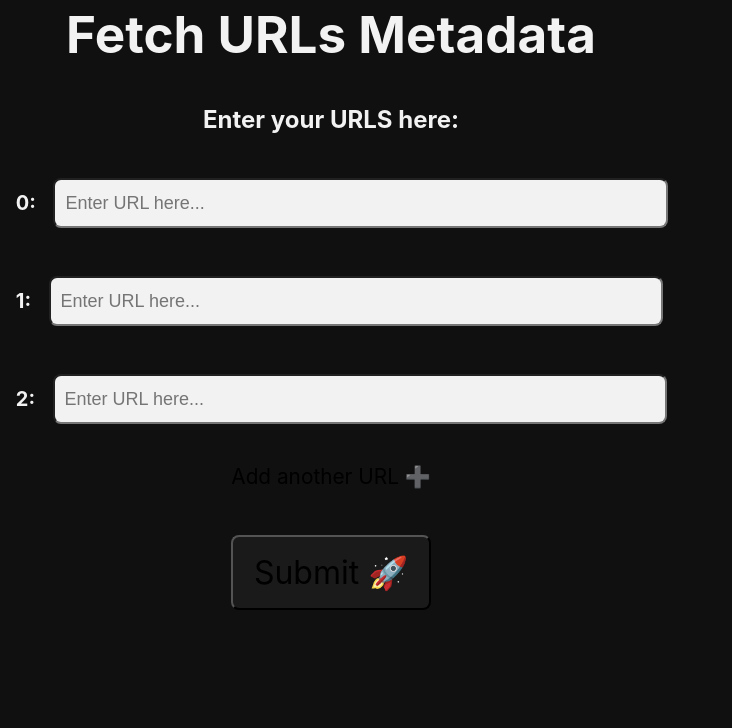
Scenario: App Component › should remove a URL input when "X" button is clicked
This screenshot has width=732, height=728.
Click the button "Add another URL ➕": [331, 477] box top-left (139, 448), bottom-right (523, 505)
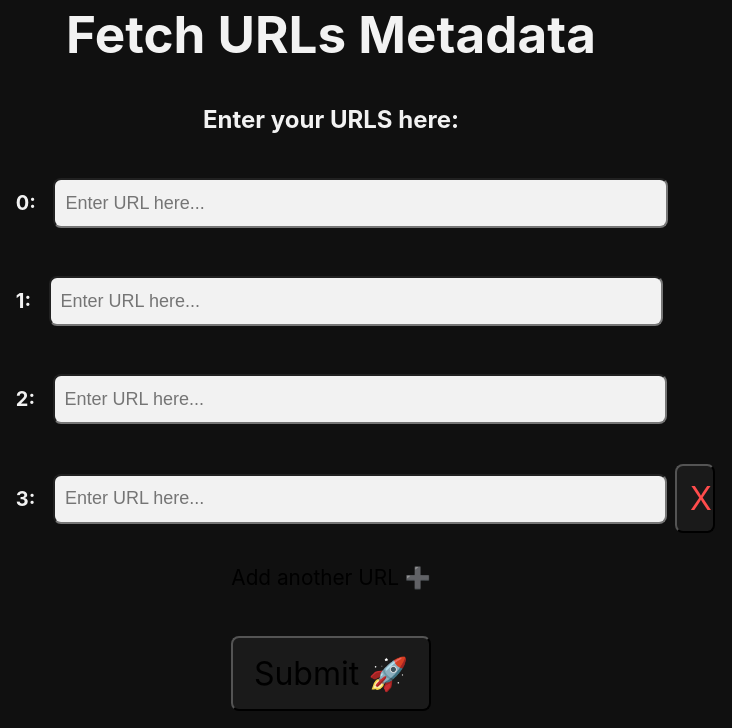
Check: the number of fields with placeholder "Enter URL here..." is 4, box top-left (54, 178), bottom-right (668, 228); top-left (49, 276), bottom-right (663, 326); top-left (53, 374), bottom-right (667, 424); top-left (53, 474), bottom-right (667, 524)
Click the button "X": [695, 499] box top-left (675, 464), bottom-right (715, 533)
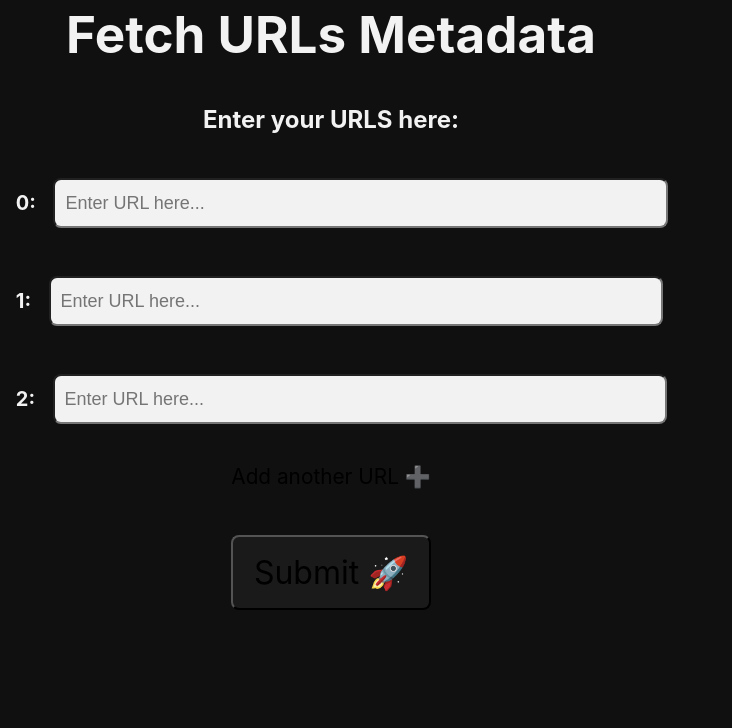
Check: the number of fields with placeholder "Enter URL here..." is 3, box top-left (54, 178), bottom-right (668, 228); top-left (49, 276), bottom-right (663, 326); top-left (53, 374), bottom-right (667, 424)
